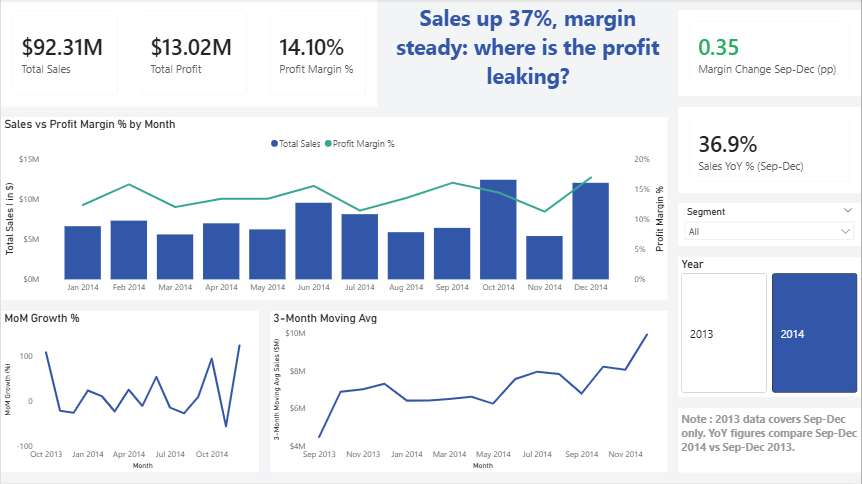

What the dashboard file says about the page in this screenshot:
{"tool":"powerbi","page":{"name":"Executive Summary","canvas":[1280,720],"ordinal":0},"visuals":[{"type":"cardVisual","fields":{"Data":["_Measures_.Total Sales"]},"box":[16,0,192,160],"z":0},{"type":"cardVisual","fields":{"Data":["_Measures_.Total Profit"]},"box":[208,0,192,160],"z":1000},{"type":"cardVisual","fields":{"Data":["_Measures_.Profit Margin %"]},"box":[400,0,176,160],"z":2000},{"type":"lineChart","title":"MoM Growth %","fields":{"Y":["Sum(mom_growth.mom_growth_pct)"],"Category":["mom_growth.month"]},"box":[16,464,384,240],"z":3000},{"type":"lineChart","title":"3-Month Moving Avg","fields":{"Category":["mom_growth.month"],"Y":["Sum(moving_avg_3month.moving_avg_3m)"]},"box":[416,464,624,240],"z":4000},{"type":"cardVisual","fields":{"Data":["_Measures_.Margin Change (pp)"]},"box":[1008,16,256,128],"z":5000},{"type":"lineClusteredColumnComboChart","title":"Sales vs Profit Margin % by Month","fields":{"Category":["DateTable.Year-Month"],"Y":["_Measures_.Total Sales"],"Y2":["_Measures_.Profit Margin %"]},"box":[16,176,976,272],"z":6000},{"type":"advancedSlicerVisual","fields":{"Values":["DateTable.Year"]},"box":[1056,384,208,208],"z":7000},{"type":"slicer","fields":{"Values":["Financials.segment"]},"box":[1008,304,256,64],"z":8000},{"type":"textbox","box":[576,0,416,160],"z":9000},{"type":"cardVisual","fields":{"Data":["_Measures_.Sales YoY % (Sep-Dec)"]},"box":[1008,160,256,128],"z":10000},{"type":"textbox","box":[1056,608,208,96],"z":11000}]}

Visuals, with their boxes in screenshot pixels (x1, y1, x2, y2), scaled from the page's 1280x720 canvas onto the 862x484 screenshot:
cardVisual - _Measures_.Total Sales: pyautogui.locateOnScreen(11, 0, 140, 108)
cardVisual - _Measures_.Total Profit: pyautogui.locateOnScreen(140, 0, 269, 108)
cardVisual - _Measures_.Profit Margin %: pyautogui.locateOnScreen(269, 0, 388, 108)
"MoM Growth %" lineChart: pyautogui.locateOnScreen(11, 312, 269, 473)
"3-Month Moving Avg" lineChart: pyautogui.locateOnScreen(280, 312, 700, 473)
cardVisual - _Measures_.Margin Change (pp): pyautogui.locateOnScreen(679, 11, 851, 97)
"Sales vs Profit Margin % by Month" lineClusteredColumnComboChart: pyautogui.locateOnScreen(11, 118, 668, 301)
advancedSlicerVisual - DateTable.Year: pyautogui.locateOnScreen(711, 258, 851, 398)
slicer - Financials.segment: pyautogui.locateOnScreen(679, 204, 851, 247)
textbox: pyautogui.locateOnScreen(388, 0, 668, 108)
cardVisual - _Measures_.Sales YoY % (Sep-Dec): pyautogui.locateOnScreen(679, 108, 851, 194)
textbox: pyautogui.locateOnScreen(711, 409, 851, 473)
